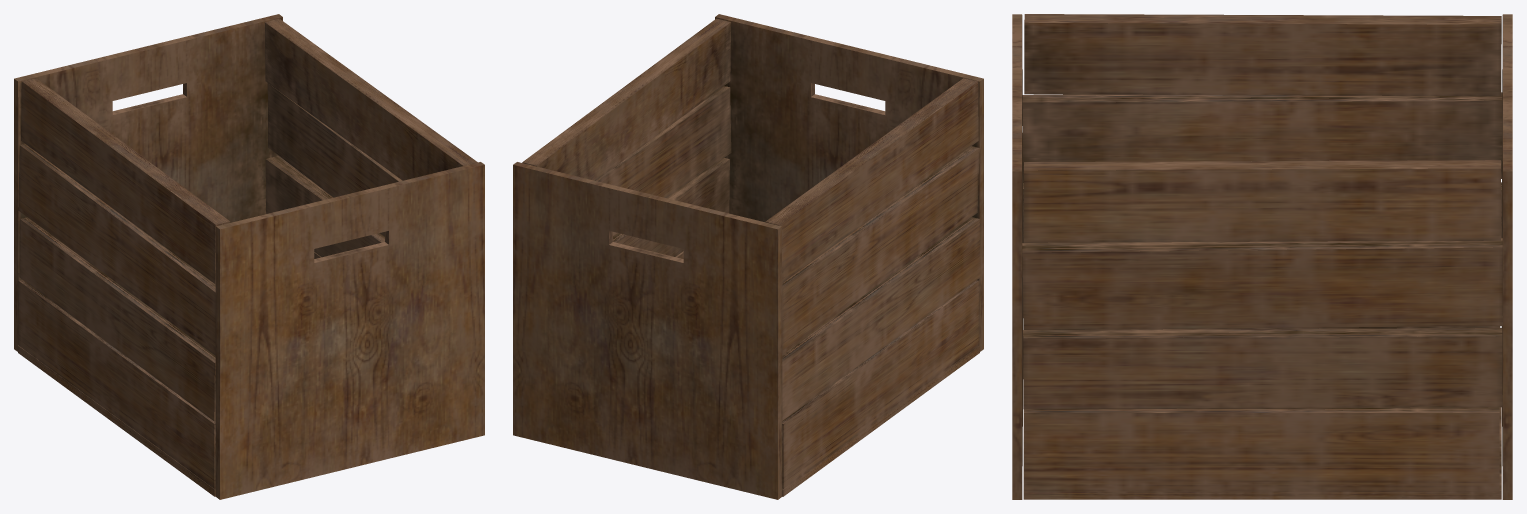
The picture shows the model from 3 angles, left to right: view 1: azimuth 30°, elevation 25°; view 2: azimuth 150°, elevation 25°; view 3: azimuth 270°, elevation 25°; orthographic projection. The views are drawn at different scales.
Visible parts, largest first — view 1: wall2_low, wall_low, bot_low; view 2: wall2_low, wall_low, bot_low; view 3: wall_low, wall2_low, bot_low.
Part boxes in pixels (x1,y1,x2,y2): wall2_low: [14, 14, 484, 499]; wall_low: [18, 18, 477, 488]; bot_low: [18, 345, 215, 496]; wall2_low: [513, 14, 983, 499]; wall_low: [522, 18, 980, 488]; bot_low: [782, 345, 979, 496]; wall_low: [1022, 14, 1502, 491]; wall2_low: [1012, 14, 1512, 499]; bot_low: [1023, 407, 1501, 499].
Bounding box in the file's own units: 8.6 × 8.37 × 11.52.
1 material, 1 textured.
